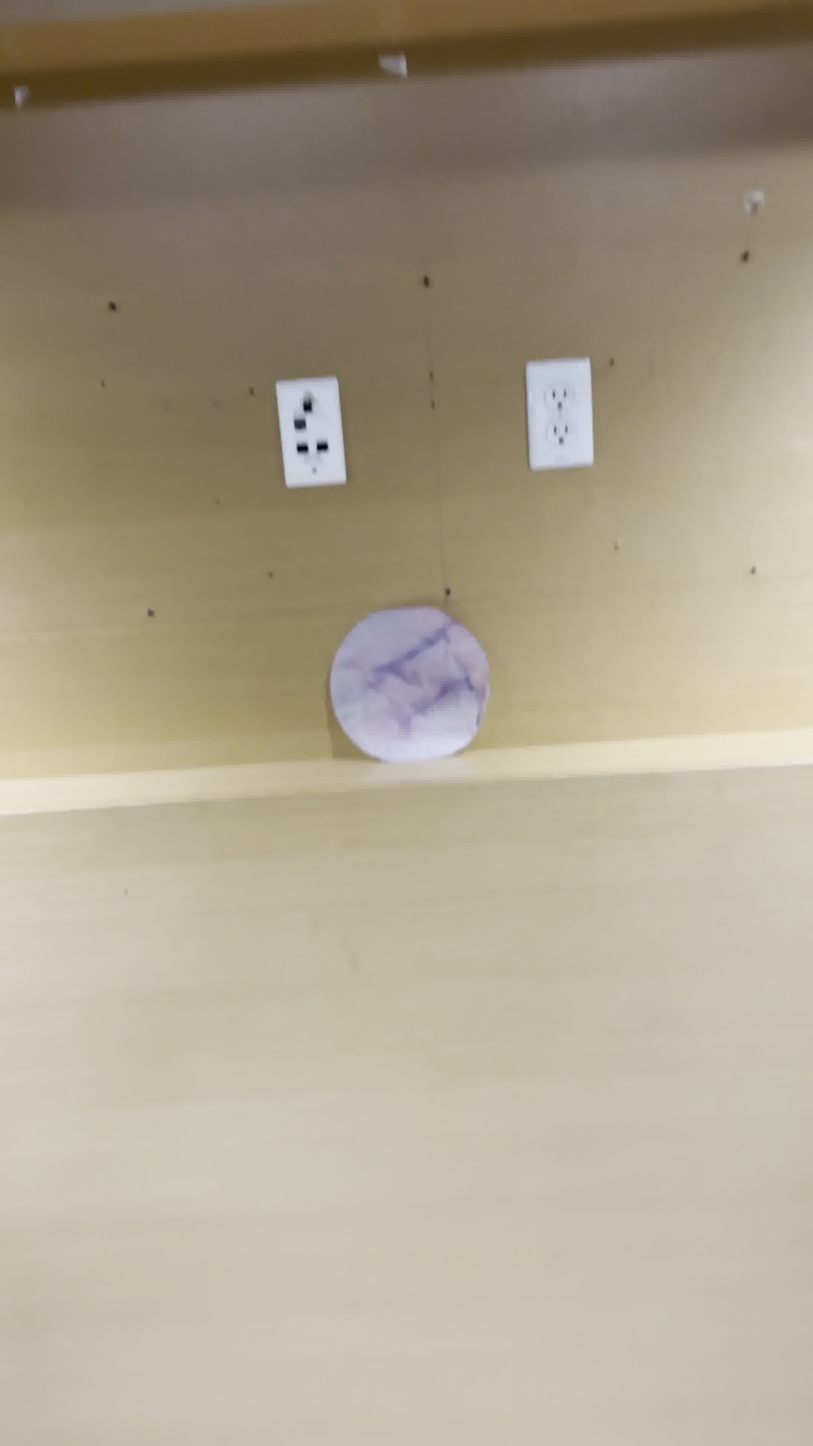Target: (333, 604, 486, 766)
